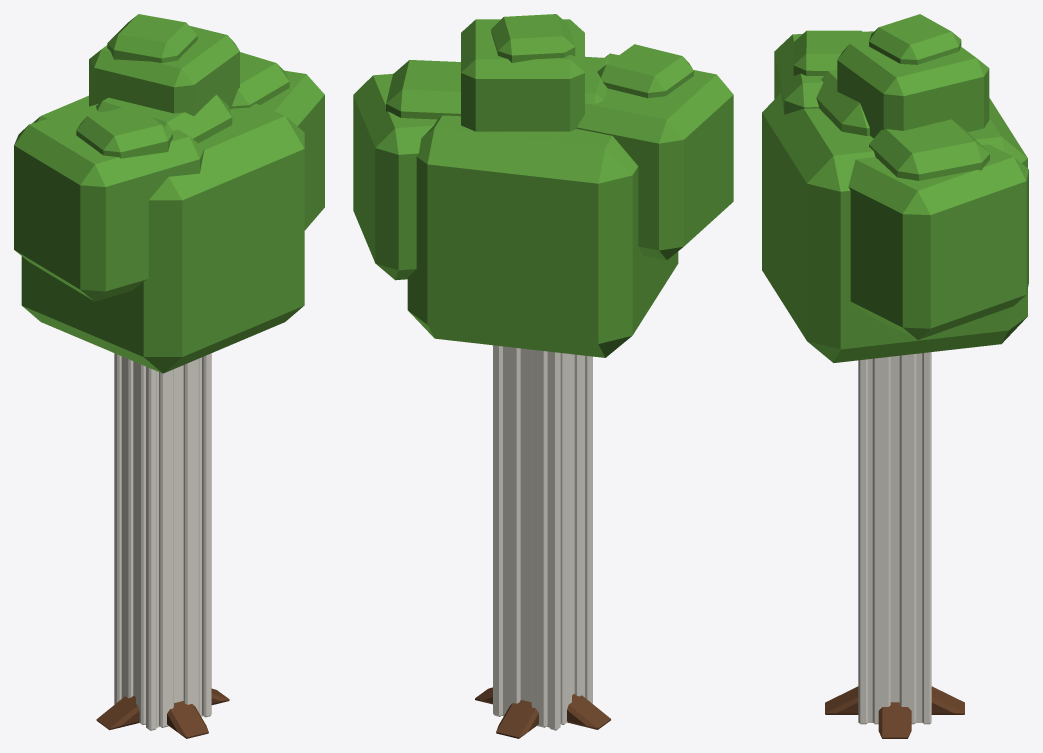
The model's file is Birch.fbx.
3 views of the same model, side by side, from view 1: azimuth 30°, elevation 25°; view 2: azimuth 150°, elevation 25°; view 3: azimuth 270°, elevation 25° (orthographic). The views are drawn at different scales.
Parts seen in each view (by area): view 1: Leaves, Trunk, LeafBlock_2, LeafBlock_3, LeafBlock_1, Root_3, Root_2; view 2: Leaves, Trunk, LeafBlock_2, LeafBlock_1, LeafBlock_3, Root_1, Root_2; view 3: LeafBlock_1, Leaves, Trunk, LeafBlock_3, LeafBlock_2, Root_4, Root_1, Root_3.
Part boxes in pixels (bbox=[...]): Leaves: bbox=[21, 94, 304, 373]; Trunk: bbox=[114, 353, 211, 730]; LeafBlock_2: bbox=[14, 104, 204, 301]; LeafBlock_3: bbox=[89, 14, 239, 115]; LeafBlock_1: bbox=[231, 52, 324, 230]; Root_3: bbox=[167, 701, 208, 738]; Root_2: bbox=[96, 695, 139, 730]; Leaves: bbox=[407, 56, 678, 357]; Trunk: bbox=[493, 345, 592, 730]; LeafBlock_2: bbox=[576, 44, 733, 260]; LeafBlock_1: bbox=[353, 60, 460, 280]; LeafBlock_3: bbox=[461, 14, 584, 131]; Root_1: bbox=[496, 700, 538, 738]; Root_2: bbox=[567, 693, 610, 729]; LeafBlock_1: bbox=[848, 119, 1028, 339]; Leaves: bbox=[762, 69, 1027, 362]; Trunk: bbox=[858, 352, 931, 724]; LeafBlock_3: bbox=[837, 14, 989, 138]; LeafBlock_2: bbox=[774, 30, 873, 114]; Root_4: bbox=[878, 702, 911, 738]; Root_1: bbox=[931, 686, 964, 714]; Root_3: bbox=[825, 686, 858, 714].
Size of the model in its own units: 11.84 by 24.58 by 8.75.
